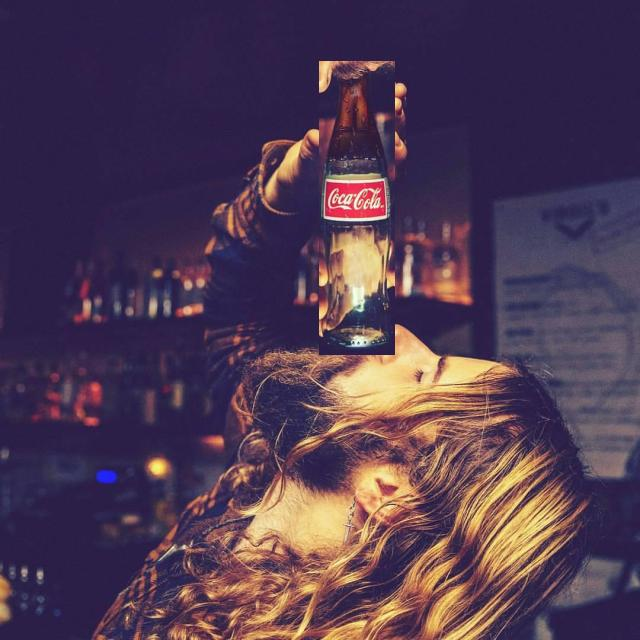coca-cola: (319, 62, 395, 356)
